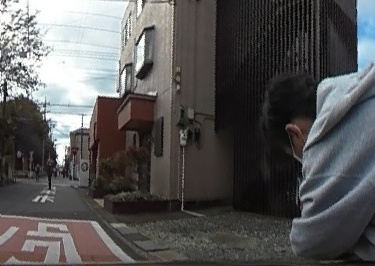person: (45, 152, 53, 189)
